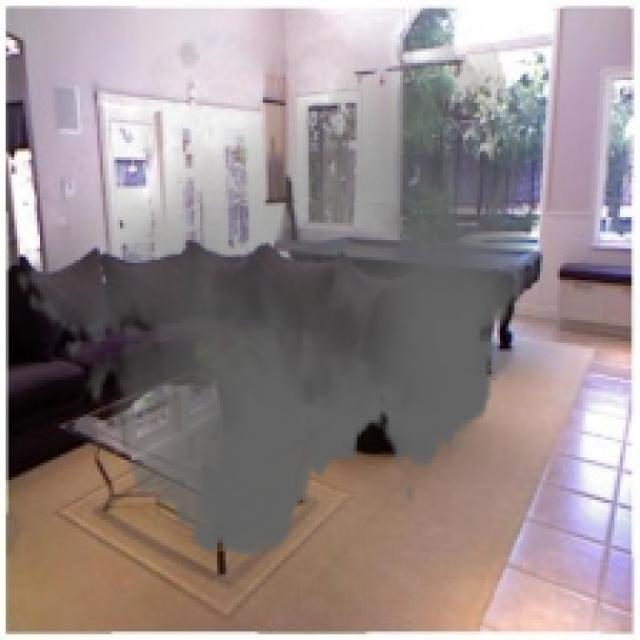Smoke: (14, 14, 537, 577)
